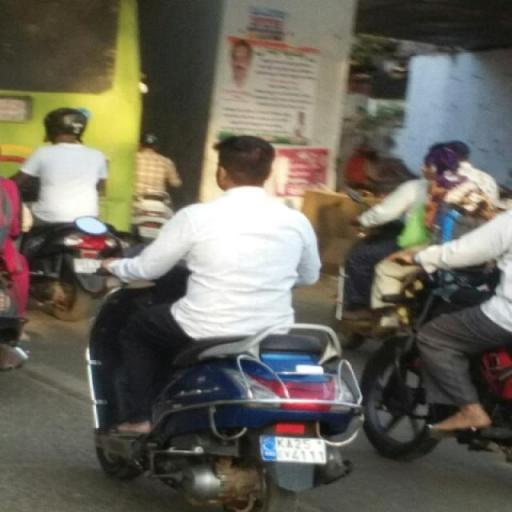bike: (75, 132, 368, 512)
numberplate: (258, 434, 328, 465)
withouthelmet: (216, 137, 272, 189)
